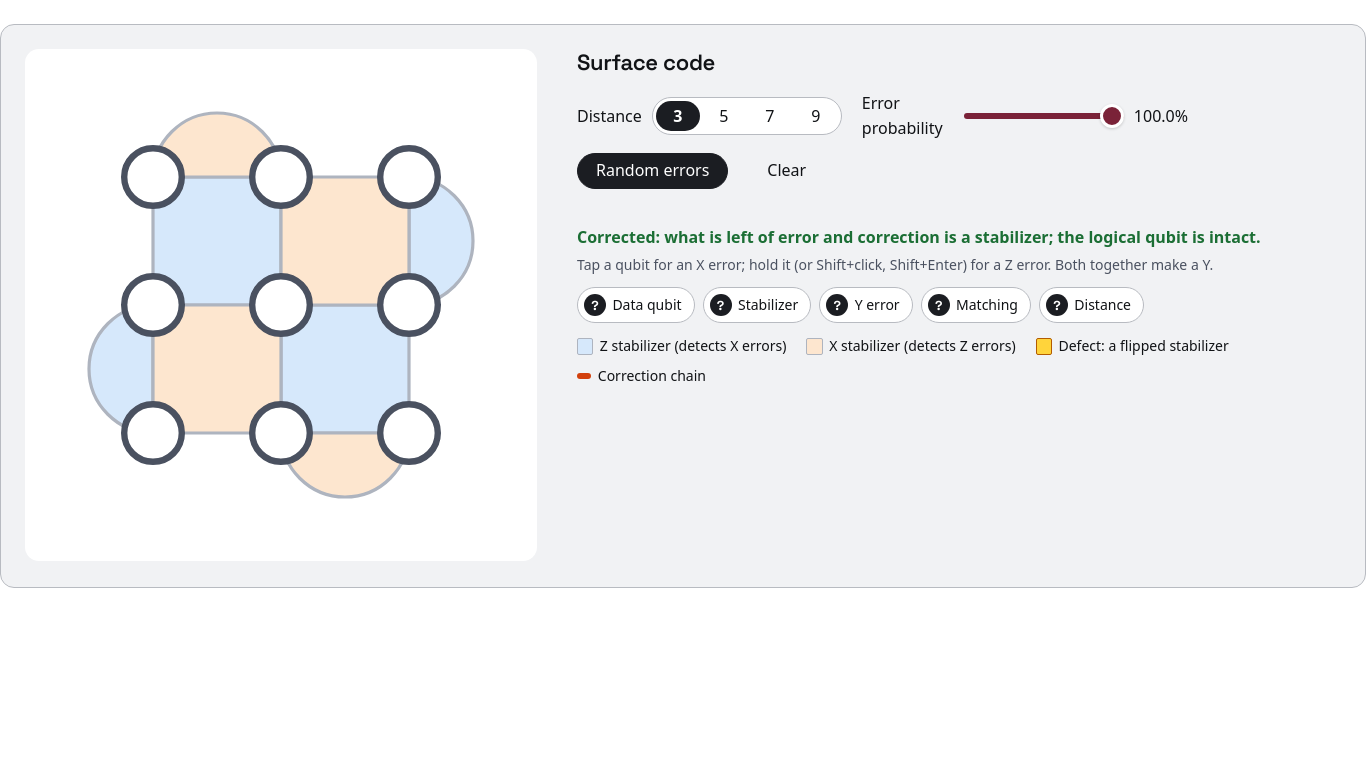
Test: GridPanel › random errors at p = 1 put a Y on every qubit and both logical errors in the verdict
Click the button "Random errors": {"x": 653, "y": 171} [577,153,728,189]
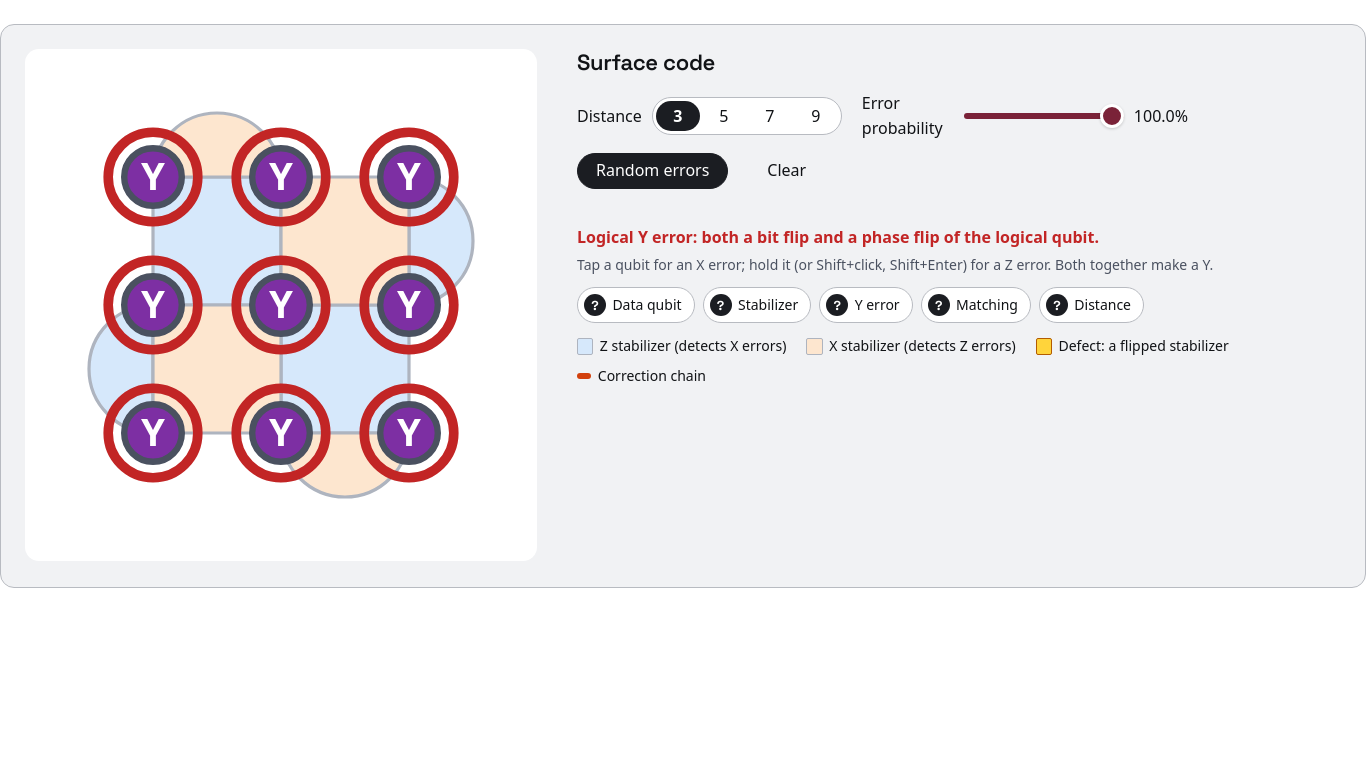
Expected: the message reads "Logical Y error: both a bit flip and a phase flip of the logical qubit.", [577,226,1099,248]
